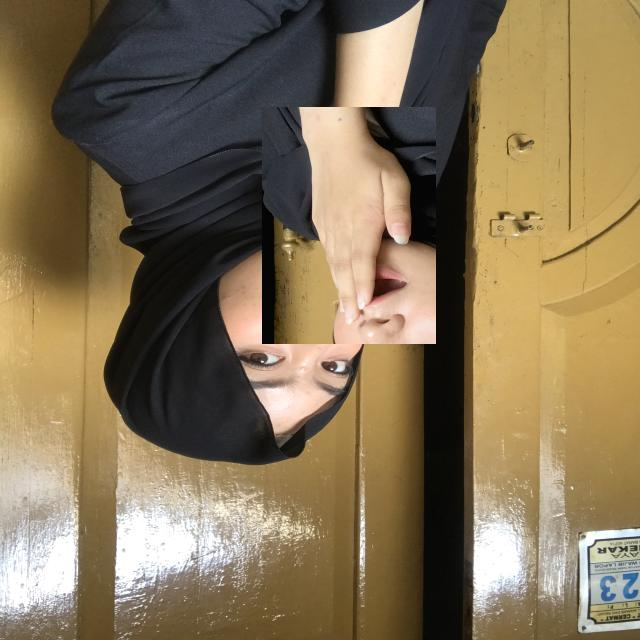ngantuk: (262, 107, 436, 344)
